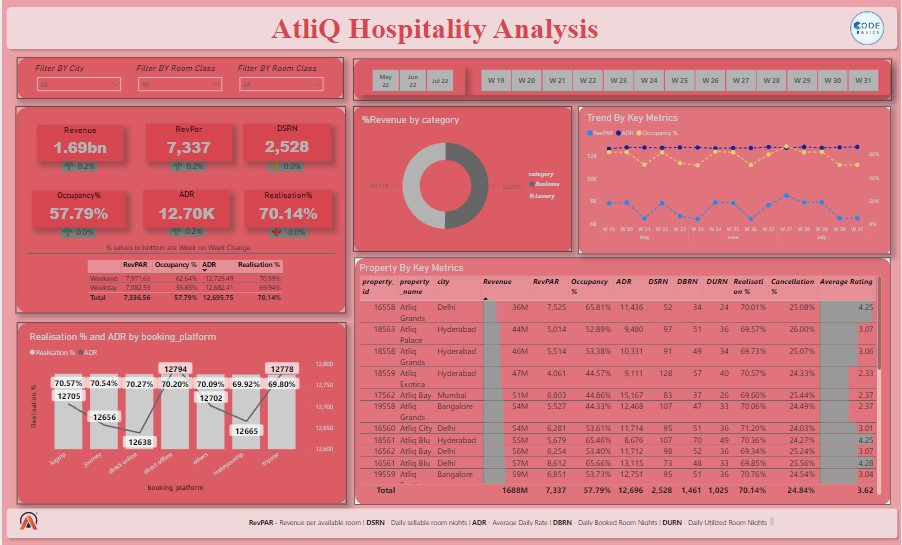

Layout of this report page (visuals, bound fields, positions):
{"tool":"powerbi","page":{"name":"Home","canvas":[1800,1100],"ordinal":0},"visuals":[{"type":"shape","box":[704,514,1072,494],"z":0},{"type":"shape","box":[30,645,658.3,363.3],"z":1000},{"type":"shape","box":[1152,213.6,625,295],"z":2000},{"type":"lineChart","title":"Trend By Key Metrics","fields":{"Category":["dim_date.mmm yy.Variation.Date Hierarchy.Month","dim_date.week no"],"Y":["key_measures.RevPAR","key_measures.ADR"],"Y2":["key_measures.Occupancy %"]},"box":[1166,226,598,270],"z":3000},{"type":"shape","box":[702.6,212.3,437.1,290],"z":4000},{"type":"shape","box":[28.3,211.7,660,413.3],"z":5000},{"type":"shape","box":[703.3,118.7,1076.7,83.3],"z":6000},{"type":"shape","box":[30,115.4,652.5,82.5],"z":7000},{"type":"slicer","title":"Filter BY City","fields":{"Values":["dim_hotels.city"]},"box":[59.3,125,187.9,65.7],"z":8000},{"type":"slicer","title":"Filter BY Room Class","fields":{"Values":["dim_rooms.room_class"]},"box":[262.1,125,187.9,66.4],"z":9000},{"type":"slicer","fields":{"Values":["dim_date.week no"]},"box":[931.2,132.5,843.8,57.5],"z":10000},{"type":"slicer","fields":{"Values":["dim_date.mmm yy"]},"box":[713.8,131.2,211.2,57.5],"z":11000},{"type":"tableEx","title":"Property By Key Metrics","fields":{"Values":["dim_hotels.property_id","dim_hotels.property_name","dim_hotels.city","key_measures.Revenue","key_measures.RevPAR","key_measures.Occupancy %","key_measures.ADR","key_measures.DSRN","key_measures.DBRN","key_measures.DURN","key_measures.Realisation %","key_measures.Cancellation %"]},"box":[710,526,1054,470],"z":12000},{"type":"tableEx","fields":{"Values":["key_measures.Revenue WoW change %"]},"box":[111.4,285,90,73.3],"z":13000},{"type":"tableEx","fields":{"Values":["key_measures.Revpar WoW change %"]},"box":[330,285.3,87.3,63.6],"z":14000},{"type":"donutChart","title":" %Revenue by category","fields":{"Category":["dim_hotels.category"],"Y":["key_measures.Occupancy %"]},"box":[713.8,227.5,415,266.2],"z":15000},{"type":"tableEx","fields":{"Values":["key_measures.DSRN WoW change %"]},"box":[524.7,285,88.3,65],"z":16000},{"type":"lineStackedColumnComboChart","fields":{"Category":["fact_bookings.booking_platform"],"Y":["key_measures.Realisation %"],"Y2":["key_measures.ADR"]},"box":[50,663.3,616.7,326.7],"z":17000},{"type":"card","title":"Revenue","fields":{"Values":["key_measures.Revenue"]},"box":[70.1,249,172.5,72.5],"z":18000},{"type":"card","title":"DSRN","fields":{"Values":["key_measures.DSRN"]},"box":[481.4,247.7,175,75],"z":19000},{"type":"card","title":"RevPar","fields":{"Values":["key_measures.RevPAR"]},"box":[287.4,247.5,172.5,75],"z":20000},{"type":"tableEx","fields":{"Values":["dim_date.day_type","key_measures.RevPAR","key_measures.Occupancy %","key_measures.ADR","key_measures.Realisation %"]},"box":[164,516,404,96],"z":21000},{"type":"tableEx","fields":{"Values":["key_measures.Occupancy WoW change %"]},"box":[109.3,416.4,87.3,63.6],"z":22000},{"type":"tableEx","fields":{"Values":["key_measures.ADR WoW change %"]},"box":[326.3,415.7,87.5,65],"z":23000},{"type":"tableEx","fields":{"Values":["key_measures.Realisation WoW change %"]},"box":[528.2,418.3,90,70],"z":24000},{"type":"card","title":"Occupancy%","fields":{"Values":["key_measures.Occupancy %"]},"box":[59.2,381.7,187.5,72.5],"z":25000},{"type":"card","title":"Realisation%","fields":{"Values":["key_measures.Realisation %"]},"box":[485.5,380.3,175.5,75.5],"z":26000},{"type":"card","title":"ADR","fields":{"Values":["key_measures.ADR"]},"box":[283.7,380.3,172.7,75.5],"z":27000},{"type":"shape","box":[0,1007.5,1800,77.5],"z":28000},{"type":"image","box":[30,1015.6,47.5,52.5],"z":29000},{"type":"textbox","box":[486,1028.9,1064,26],"z":30000},{"type":"slicer","title":"Filter BY Room Class","fields":{"Values":["dim_rooms.room_class"]},"box":[464.3,125,187.9,65.7],"z":31000},{"type":"textbox","box":[201.2,478.8,335,28.8],"z":32000},{"type":"shape","box":[50,488.3,616.7,38.3],"z":33000},{"type":"shape","box":[0,4,1800,102],"z":34000},{"type":"image","box":[1669.3,15.2,120,82.7],"z":35000},{"type":"textbox","box":[112,17.5,1506,78],"z":36000}]}

Visuals, with their boxes in screenshot pixels (x1, y1, x2, y2), scaled from the page's 1800x1100 canvas onto the 902x545 screenshot:
shape: crop(353, 255, 890, 499)
shape: crop(15, 320, 345, 500)
shape: crop(577, 106, 890, 252)
"Trend By Key Metrics" lineChart: crop(584, 112, 884, 246)
shape: crop(352, 105, 571, 249)
shape: crop(14, 105, 345, 310)
shape: crop(352, 59, 892, 100)
shape: crop(15, 57, 342, 98)
"Filter BY City" slicer: crop(30, 62, 124, 94)
"Filter BY Room Class" slicer: crop(131, 62, 225, 95)
slicer - dim_date.week no: crop(467, 66, 889, 94)
slicer - dim_date.mmm yy: crop(358, 65, 464, 93)
"Property By Key Metrics" tableEx: crop(356, 261, 884, 493)
tableEx - key_measures.Revenue WoW change %: crop(56, 141, 101, 178)
tableEx - key_measures.Revpar WoW change %: crop(165, 141, 209, 173)
" %Revenue by category" donutChart: crop(358, 113, 566, 245)
tableEx - key_measures.DSRN WoW change %: crop(263, 141, 307, 173)
lineStackedColumnComboChart - fact_bookings.booking_platform x key_measures.Realisation %: crop(25, 329, 334, 490)
"Revenue" card: crop(35, 123, 122, 159)
"DSRN" card: crop(241, 123, 329, 160)
"RevPar" card: crop(144, 123, 230, 160)
tableEx - dim_date.day_type x key_measures.RevPAR: crop(82, 256, 285, 303)
tableEx - key_measures.Occupancy WoW change %: crop(55, 206, 99, 238)
tableEx - key_measures.ADR WoW change %: crop(164, 206, 207, 238)
tableEx - key_measures.Realisation WoW change %: crop(265, 207, 310, 242)
"Occupancy%" card: crop(30, 189, 124, 225)
"Realisation%" card: crop(243, 188, 331, 226)
"ADR" card: crop(142, 188, 229, 226)
shape: crop(0, 499, 901, 538)
image: crop(15, 503, 39, 529)
textbox: crop(244, 510, 777, 523)
"Filter BY Room Class" slicer: crop(233, 62, 327, 94)
textbox: crop(101, 237, 269, 251)
shape: crop(25, 242, 334, 261)
shape: crop(0, 2, 901, 53)
image: crop(837, 8, 897, 49)
textbox: crop(56, 9, 811, 47)
